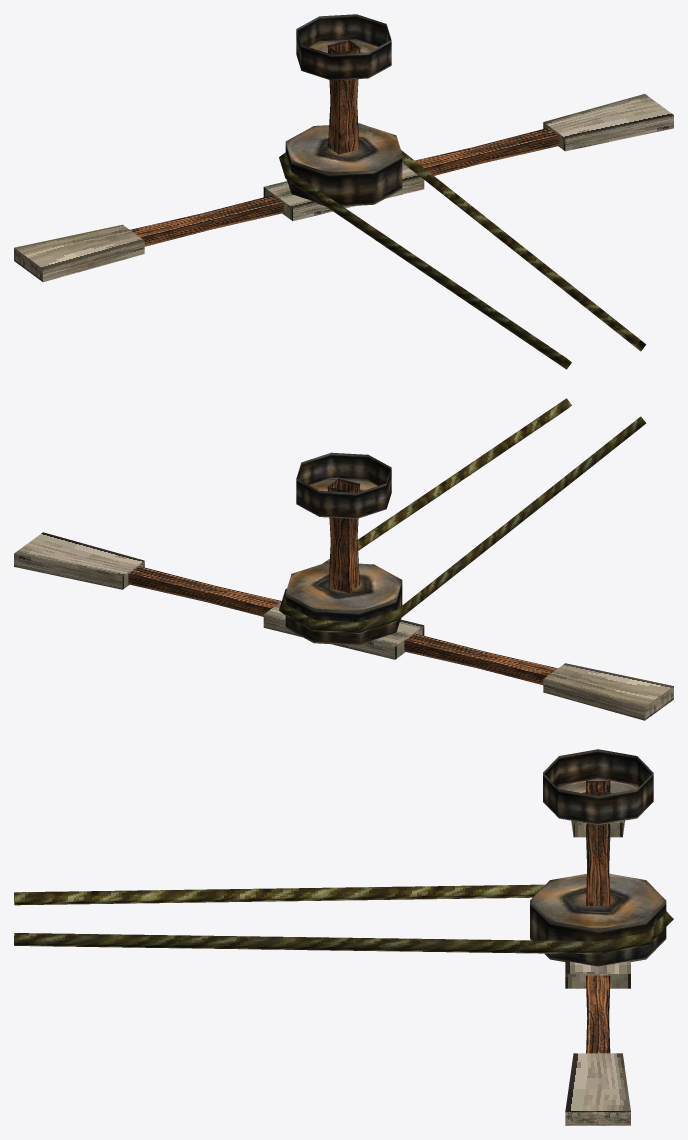
Rendered from INST_WH2_SPINNING_T.fbx.
3 views of the same model, one above another, from view 1: azimuth 30°, elevation 25°; view 2: azimuth 150°, elevation 25°; view 3: azimuth 270°, elevation 25° (orthographic). The views are drawn at different scales.
Parts seen in each view (by area): view 1: INST_WH2_SPINNING_T; view 2: INST_WH2_SPINNING_T; view 3: INST_WH2_SPINNING_T.
Part boxes in pixels (x1,y1,x2,y2): INST_WH2_SPINNING_T: (14,14,673,369); INST_WH2_SPINNING_T: (14,398,673,720); INST_WH2_SPINNING_T: (14,749,673,1125).
Bounding box in the file's own units: 80000 × 19425 × 64493.
4 materials, 4 textured.
